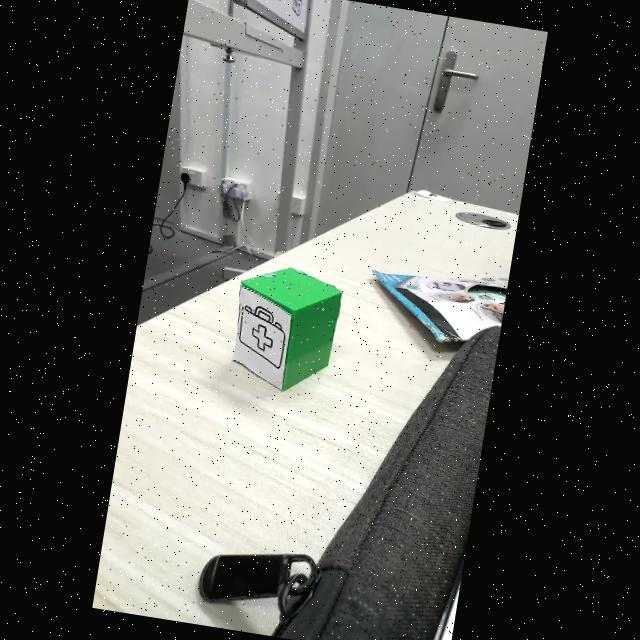Medkit: (239, 305, 285, 369)
